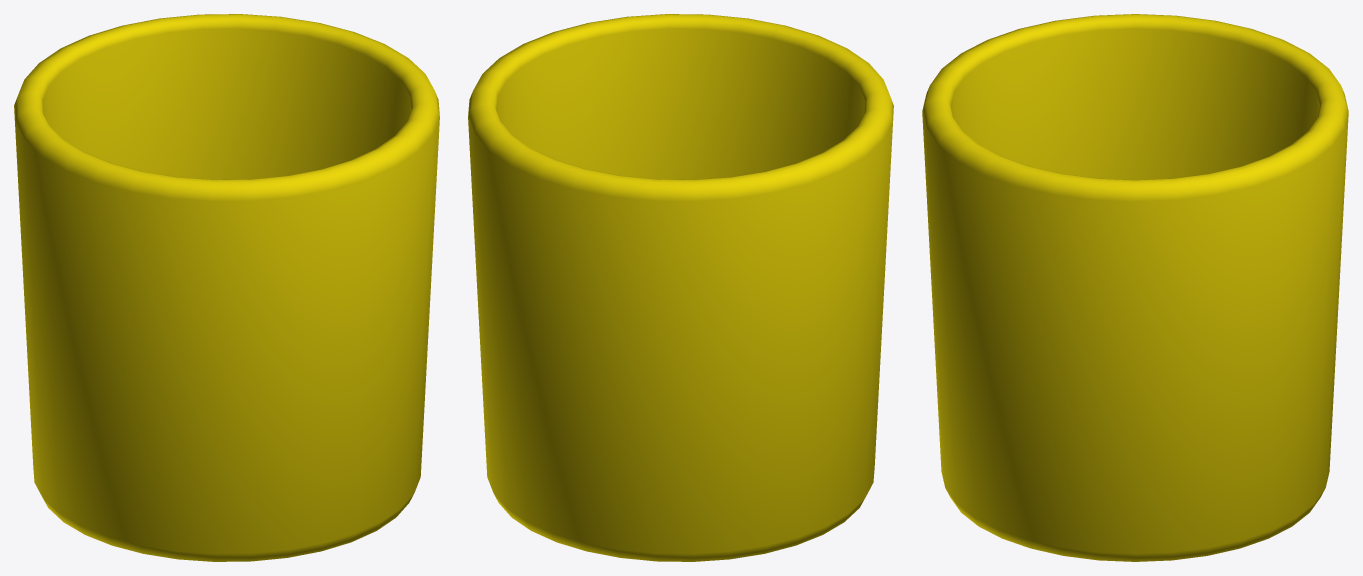
File: GlassYellow.fbx
3 views of the same model, side by side, from view 1: azimuth 30°, elevation 25°; view 2: azimuth 150°, elevation 25°; view 3: azimuth 270°, elevation 25° (orthographic).
Parts seen in each view (by area): view 1: Cylinder; view 2: Cylinder; view 3: Cylinder.
Boxes of the visible parts, left/top/right/bottom form: Cylinder: left=14, top=14, right=439, bottom=561; Cylinder: left=468, top=14, right=893, bottom=561; Cylinder: left=922, top=14, right=1348, bottom=561.
Size of the model in its own units: 199 by 200 by 199.
